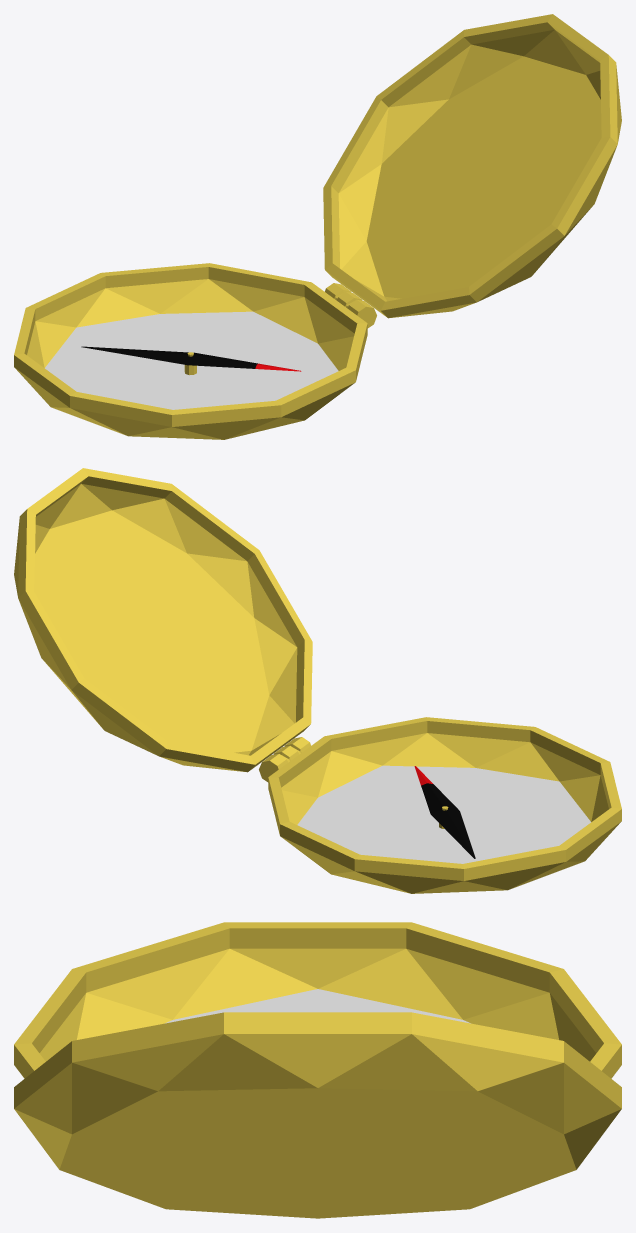
The model's file is pusula.fbx.
The picture shows the model from 3 angles, top to bottom: view 1: azimuth 30°, elevation 25°; view 2: azimuth 150°, elevation 25°; view 3: azimuth 270°, elevation 25°; orthographic projection. The views are drawn at different scales.
Parts seen in each view (by area): view 1: Icosphere.001, pusula, Cube.001, Cylinder.001; view 2: Icosphere.001, pusula, Cube.001, Cylinder.001; view 3: Icosphere.001, pusula.
Boxes of the visible parts, x1,y1,x2,y2 form: Icosphere.001: [323, 14, 621, 318]; pusula: [14, 263, 367, 439]; Cube.001: [81, 346, 301, 371]; Cylinder.001: [325, 283, 376, 328]; Icosphere.001: [14, 468, 312, 772]; pusula: [268, 717, 621, 893]; Cube.001: [414, 766, 475, 858]; Cylinder.001: [259, 737, 310, 782]; Icosphere.001: [14, 1012, 621, 1218]; pusula: [14, 922, 621, 1078].
Size of the model in its own units: 503 by 216 by 286.
